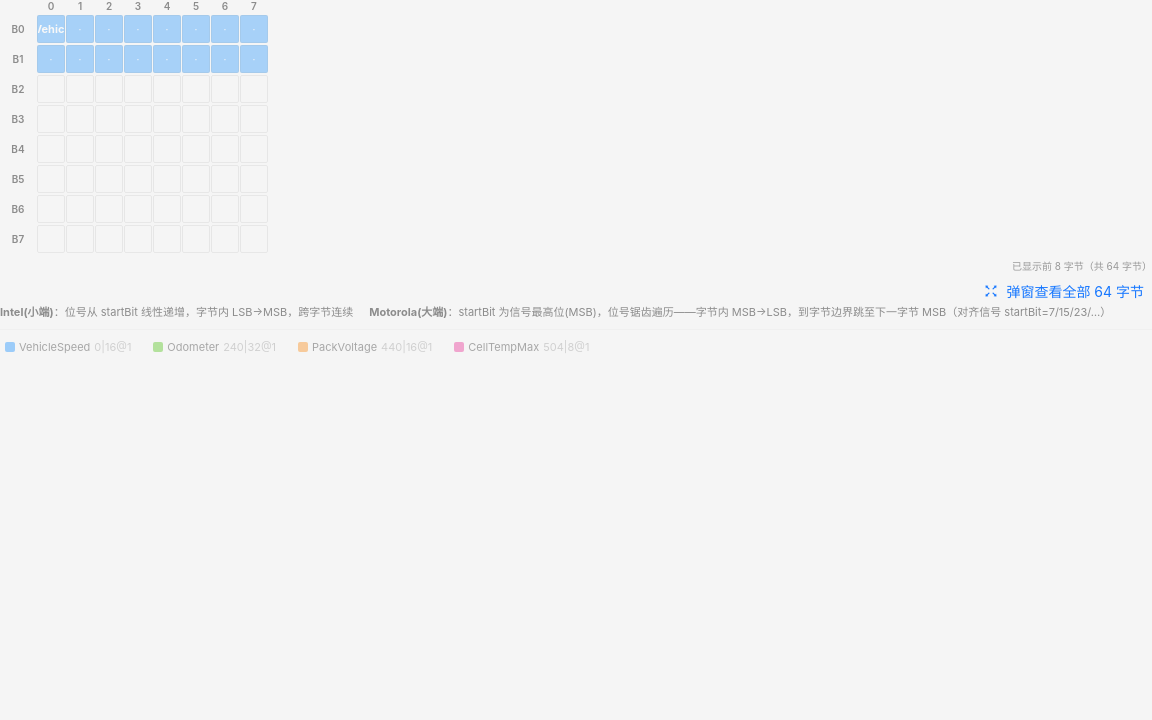
Test: SignalLayoutView › modal renders every byte row of a 64-byte CAN FD message once opened
This screenshot has width=1152, height=720.
// Click the "查看全部" button — modal mounts in-place (no portal escape).
What coordinates should you click on to do the following:
click the button with test id "open-layout-modal"
I would click on:
 (1064, 291)
Its box is [976,279,1151,303].
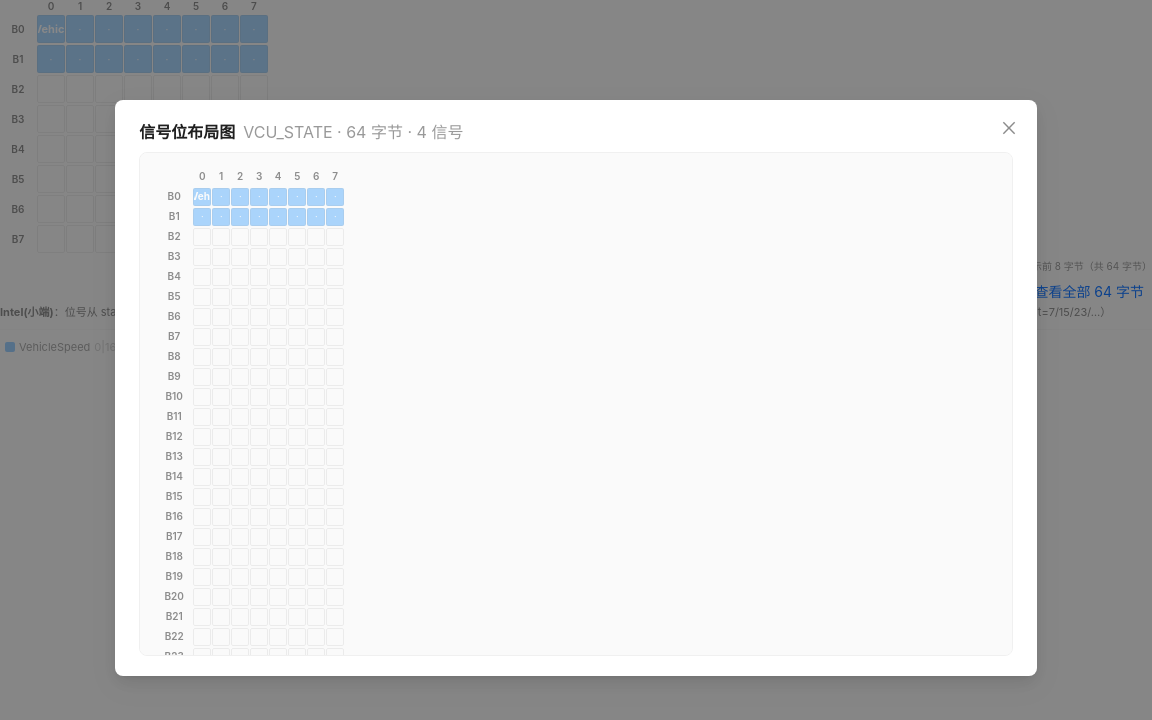
Expected: the element with test id "layout-grid-modal" is shown, [139,152,1013,656]
